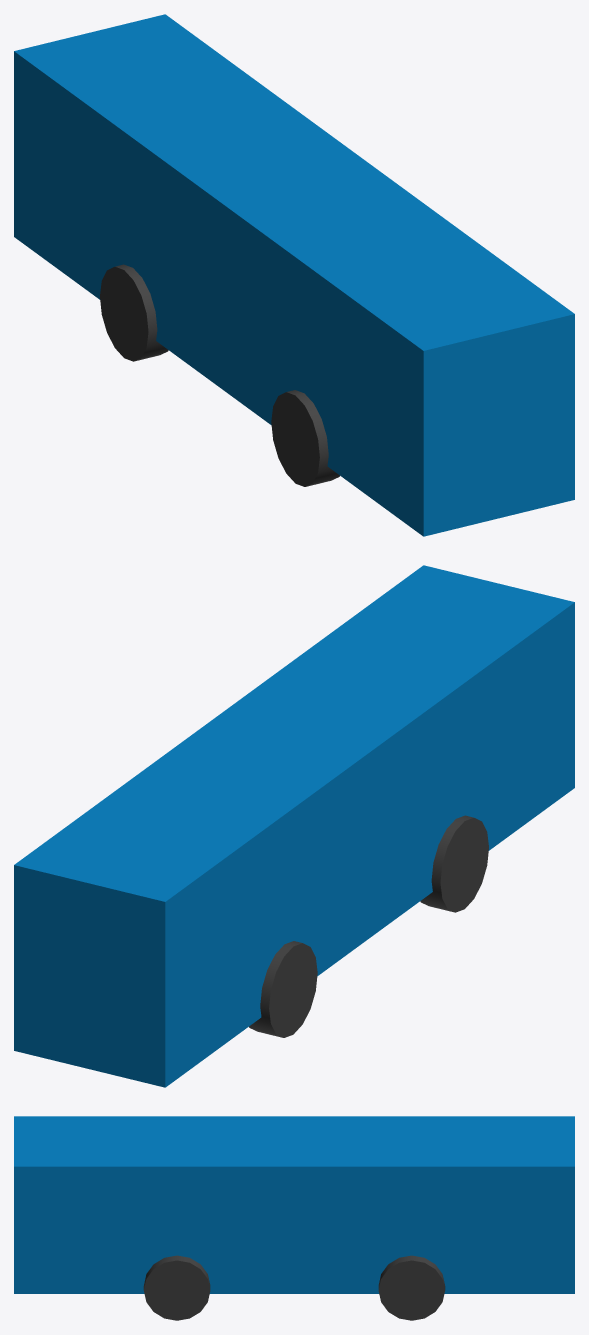
Rendered from touristBus.fbx.
3 renders of one model, top to bottom at view 1: azimuth 30°, elevation 25°; view 2: azimuth 150°, elevation 25°; view 3: azimuth 270°, elevation 25°, orthographic. The views are drawn at different scales.
Parts seen in each view (by area): view 1: bus_geo, backWheel_L_geo, frontWheel_L_geo; view 2: bus_geo, frontWheel_L_geo, backWheel_L_geo; view 3: bus_geo, frontWheel_R_geo, backWheel_R_geo.
Part boxes in pixels (left/top/right/bottom): bus_geo: left=14, top=14, right=574, bottom=536; backWheel_L_geo: left=271, top=390, right=339, bottom=486; frontWheel_L_geo: left=100, top=264, right=168, bottom=361; bus_geo: left=14, top=565, right=574, bottom=1087; frontWheel_L_geo: left=249, top=941, right=317, bottom=1037; backWheel_L_geo: left=420, top=815, right=488, bottom=912; bus_geo: left=14, top=1116, right=574, bottom=1293; frontWheel_R_geo: left=378, top=1255, right=445, bottom=1320; backWheel_R_geo: left=143, top=1255, right=210, bottom=1320.
Size of the model in its own units: 2.95 by 3.5 by 11.95.
